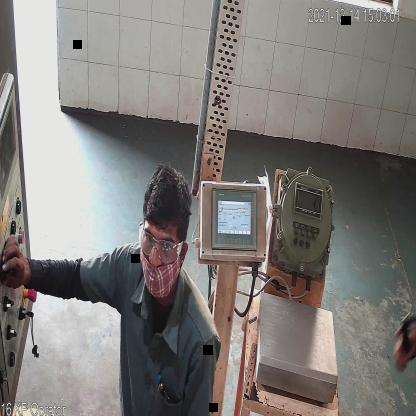goggles: (140, 228, 184, 261)
